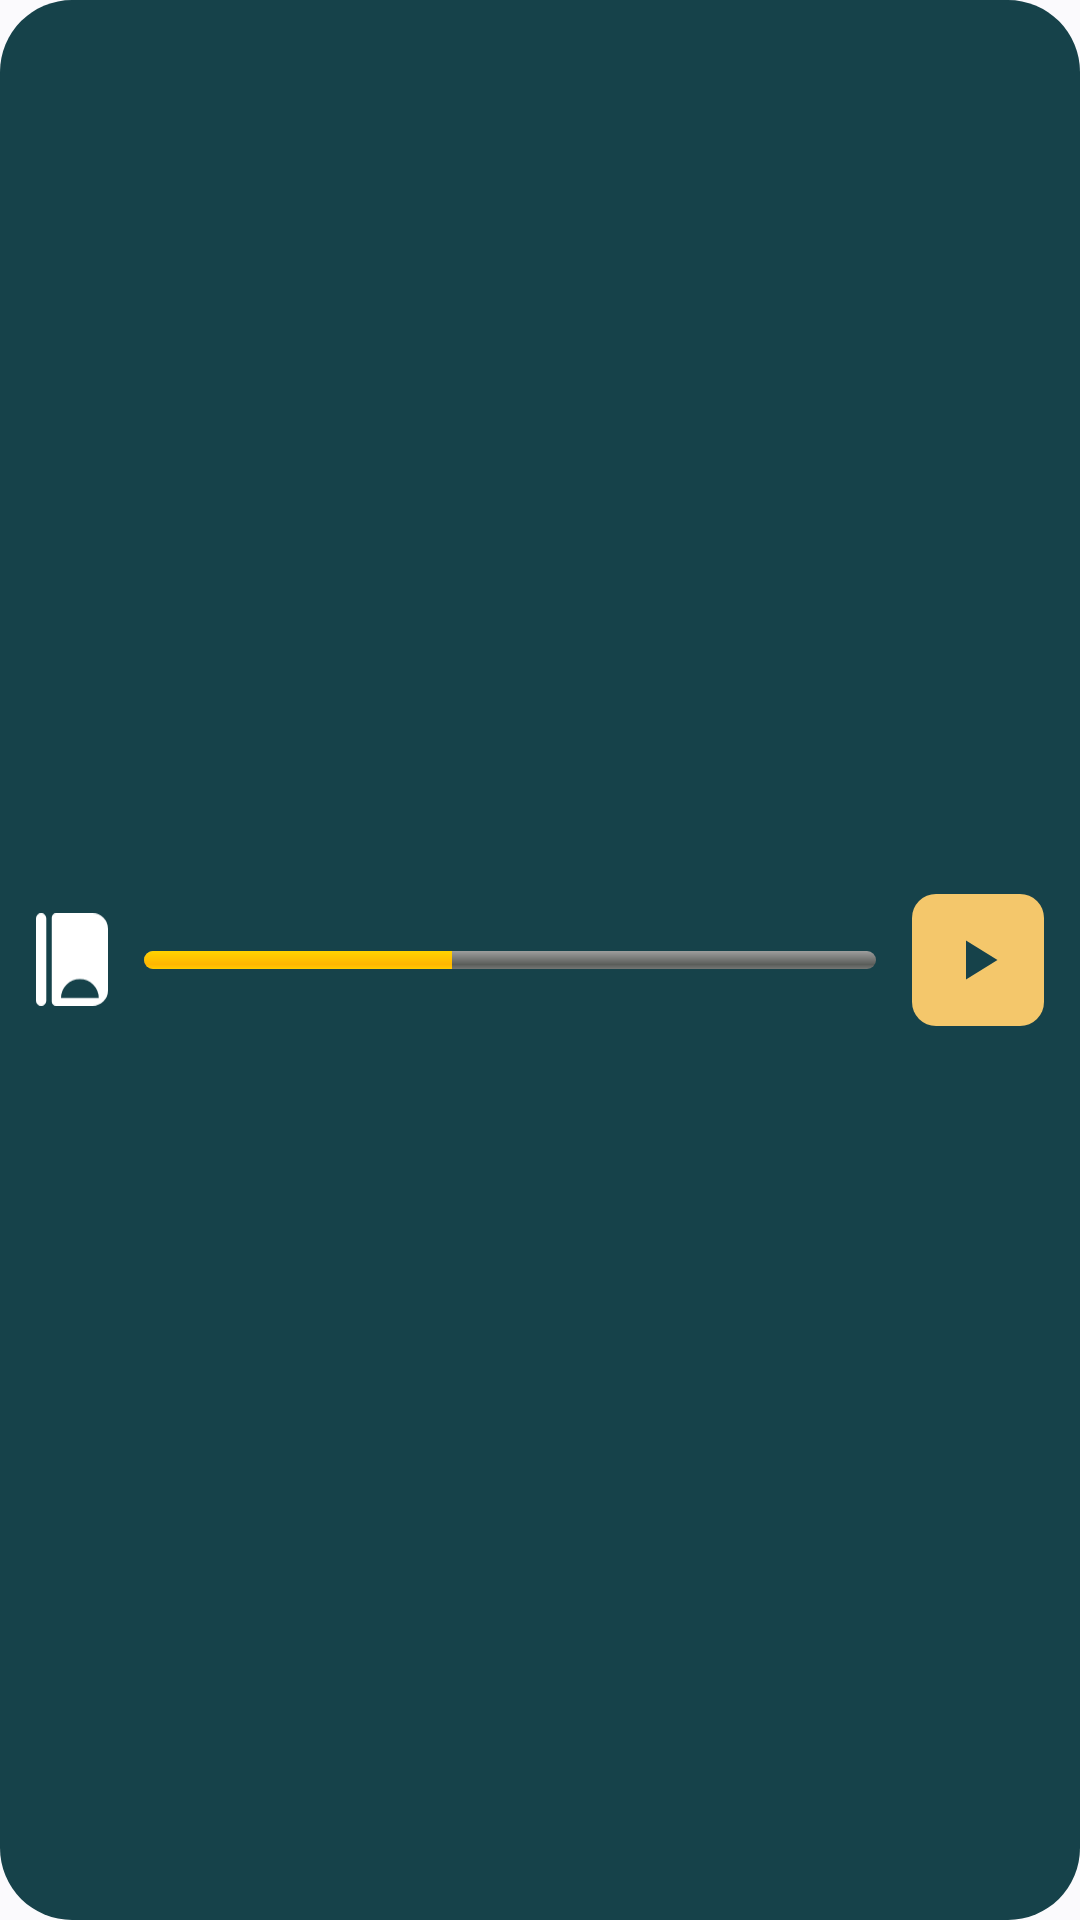

Icon bounding boxes for this 1080 × 1920 phone screenshot, format (x1, y1, x2, y2):
brand mark: (36, 913, 108, 1006)
widget play: (912, 894, 1044, 1026)
